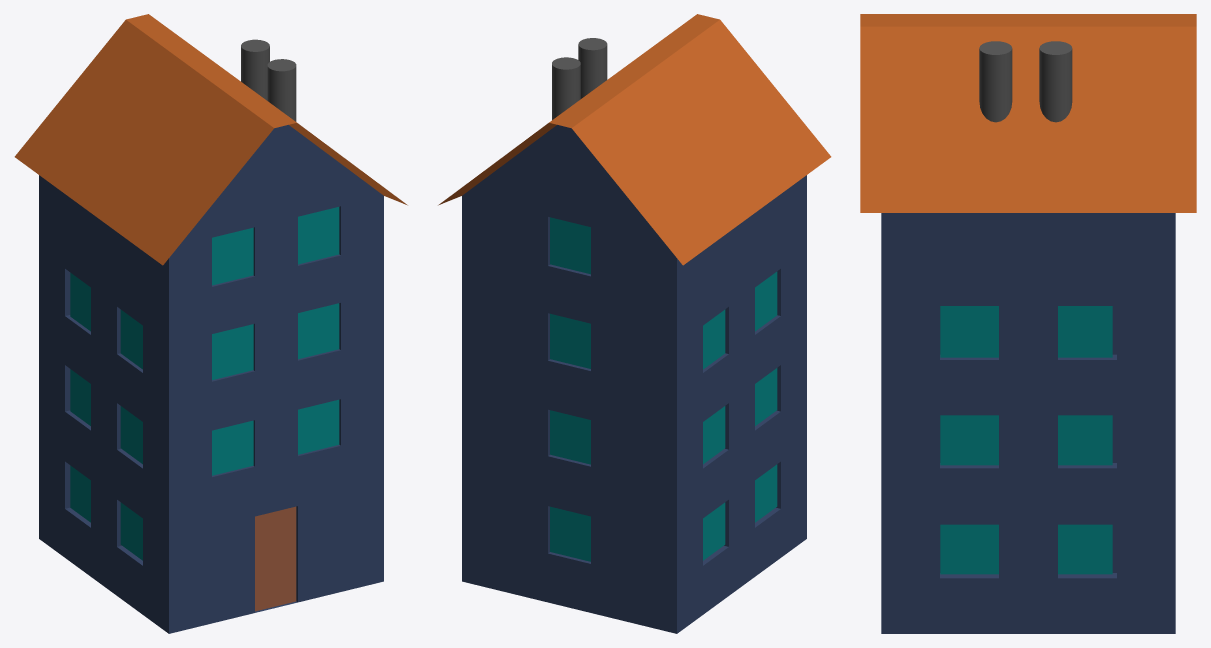
The picture shows the model from 3 angles, left to right: view 1: azimuth 30°, elevation 25°; view 2: azimuth 150°, elevation 25°; view 3: azimuth 270°, elevation 25°; orthographic projection. The views are drawn at different scales.
Visible parts, largest first — view 1: pCube1, pCube2 (×2), pCube3 (×2), pCube5 (×2), pCube7 (×2), pCube4 (×2), pCube6 (×2), pCylinder1, pCylinder2; view 2: pCube1, pCube8, pCube9, pCube11, pCube10, pCylinder2, pCylinder1, pCube3, pCube2, pCube4, pCube5, pCube7 (+1 smaller); view 3: pCube1, pCube2, pCube7, pCube5, pCube3, pCube6, pCube4, pCylinder1, pCylinder2.
Part boxes in pixels (left/top/right/bottom): pCube1: left=14, top=14, right=407, bottom=633; pCube2 (×2): left=120, top=227, right=253, bottom=369; pCube3 (×2): left=70, top=207, right=339, bottom=331; pCube5 (×2): left=120, top=324, right=253, bottom=464; pCube7 (×2): left=120, top=420, right=253, bottom=560; pCube4 (×2): left=70, top=303, right=339, bottom=425; pCube6 (×2): left=70, top=399, right=339, bottom=522; pCylinder1: left=267, top=59, right=296, bottom=121; pCylinder2: left=241, top=39, right=269, bottom=100; pCube1: left=438, top=14, right=831, bottom=633; pCube8: left=550, top=217, right=590, bottom=274; pCube9: left=550, top=313, right=590, bottom=368; pCube11: left=550, top=506, right=590, bottom=561; pCube10: left=550, top=410, right=590, bottom=464; pCylinder2: left=552, top=57, right=580, bottom=119; pCylinder1: left=578, top=38, right=607, bottom=98; pCube3: left=703, top=309, right=725, bottom=369; pCube2: left=755, top=271, right=777, bottom=331; pCube4: left=703, top=406, right=725, bottom=464; pCube5: left=755, top=368, right=777, bottom=425; pCube7: left=755, top=464, right=777, bottom=522; pCube1: left=860, top=14, right=1196, bottom=633; pCube2: left=940, top=306, right=998, bottom=357; pCube7: left=940, top=524, right=998, bottom=574; pCube5: left=940, top=415, right=998, bottom=465; pCube3: left=1058, top=306, right=1112, bottom=357; pCube6: left=1058, top=524, right=1112, bottom=574; pCube4: left=1058, top=415, right=1112, bottom=465; pCylinder1: left=979, top=41, right=1012, bottom=122; pCylinder2: left=1039, top=41, right=1072, bottom=122.
Bounding box in the file's own units: 42.5 × 81.31 × 44.5.
